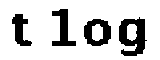1: (44, 6, 79, 51)
g: (117, 15, 147, 60)
o: (82, 18, 115, 46)
t: (7, 12, 35, 49)
